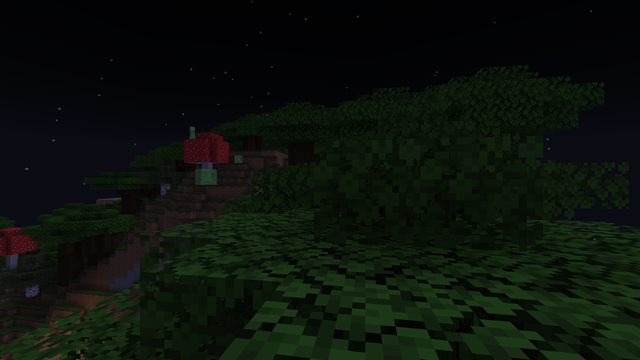creepers: (188, 125, 195, 138)
slimes: (193, 168, 217, 184), (233, 155, 243, 163)
